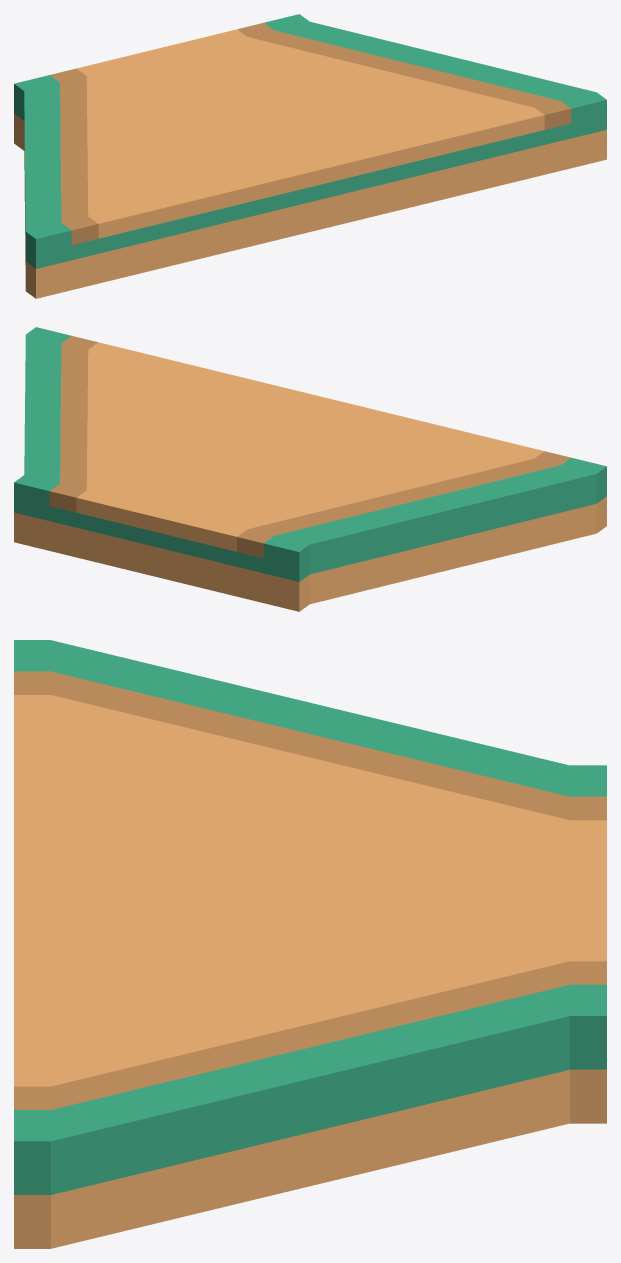
The model's file is tile_wideTransition(+).fbx.
3 views of the same model, one above another, from view 1: azimuth 30°, elevation 25°; view 2: azimuth 150°, elevation 25°; view 3: azimuth 270°, elevation 25° (orthographic). The views are drawn at different scales.
Parts seen in each view (by area): view 1: Mesh_1; view 2: Mesh_1; view 3: Mesh_1.
Part boxes in pixels (<box>): Mesh_1: <box>14,14,606,298</box>; Mesh_1: <box>14,327,606,611</box>; Mesh_1: <box>14,640,606,1248</box>.
Size of the model in its own units: 200 by 20 by 100.
